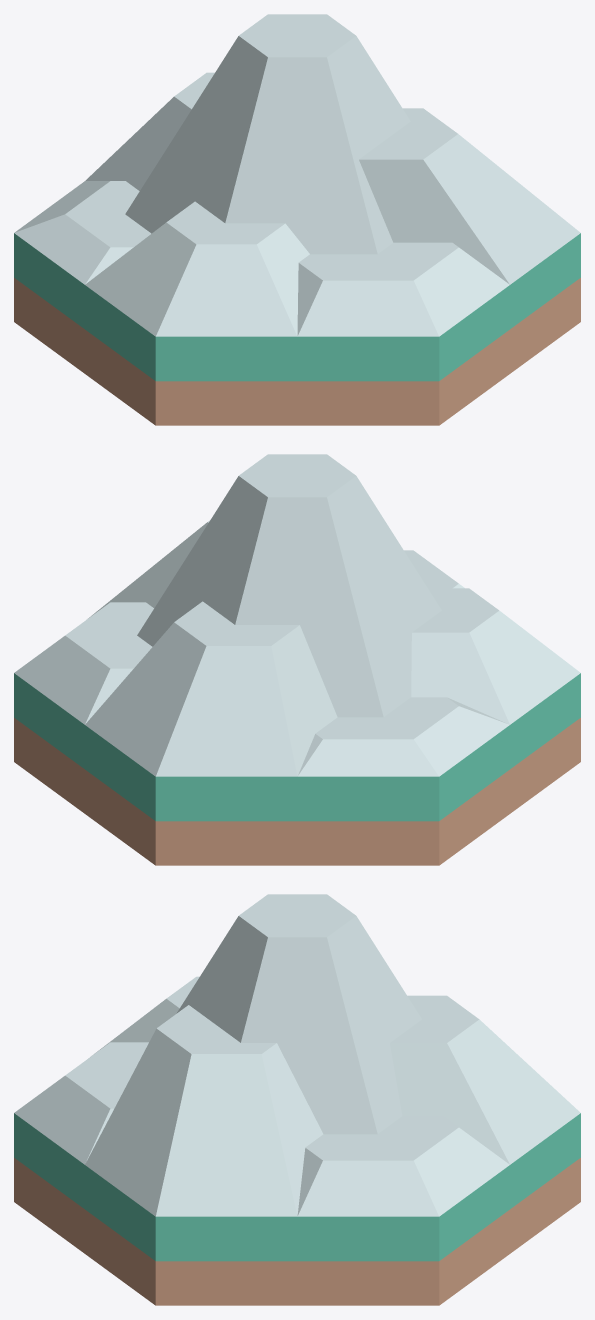
File: MountainCell.fbx
3 views of the same model, one above another, from view 1: azimuth 30°, elevation 25°; view 2: azimuth 150°, elevation 25°; view 3: azimuth 270°, elevation 25° (orthographic).
Visible parts, largest first — view 1: Hill, Grass; view 2: Hill, Grass; view 3: Hill, Grass.
Boxes of the visible parts, x1=… form: Hill: x1=14, y1=14, x2=580, y2=336; Grass: x1=14, y1=233, x2=580, y2=425; Hill: x1=14, y1=454, x2=580, y2=776; Grass: x1=14, y1=673, x2=580, y2=865; Hill: x1=14, y1=894, x2=580, y2=1216; Grass: x1=14, y1=1113, x2=580, y2=1305.
Bounding box in the file's own units: 100 × 64.32 × 115.
